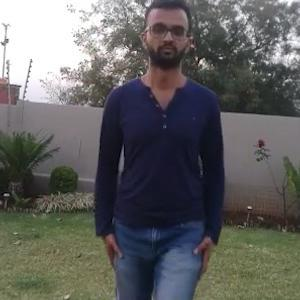follow: (91, 9, 225, 299)
